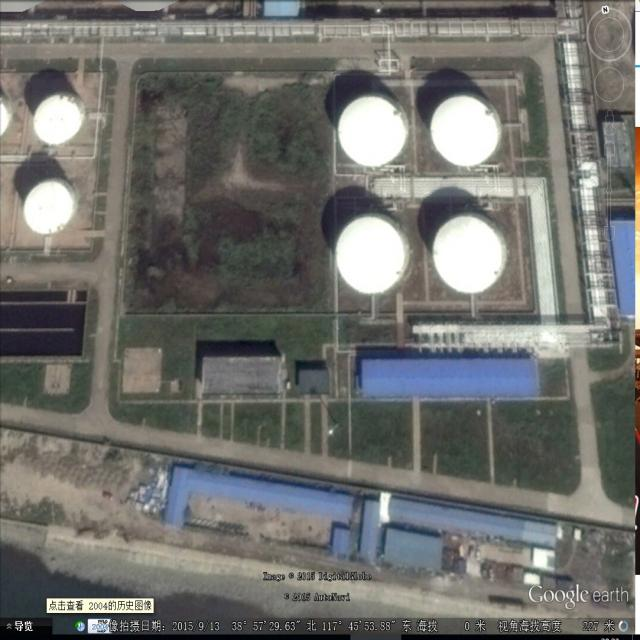oiltank: (428, 207, 515, 301), (331, 210, 415, 299), (427, 89, 507, 172), (336, 91, 414, 174), (20, 174, 82, 238), (30, 90, 90, 151)
